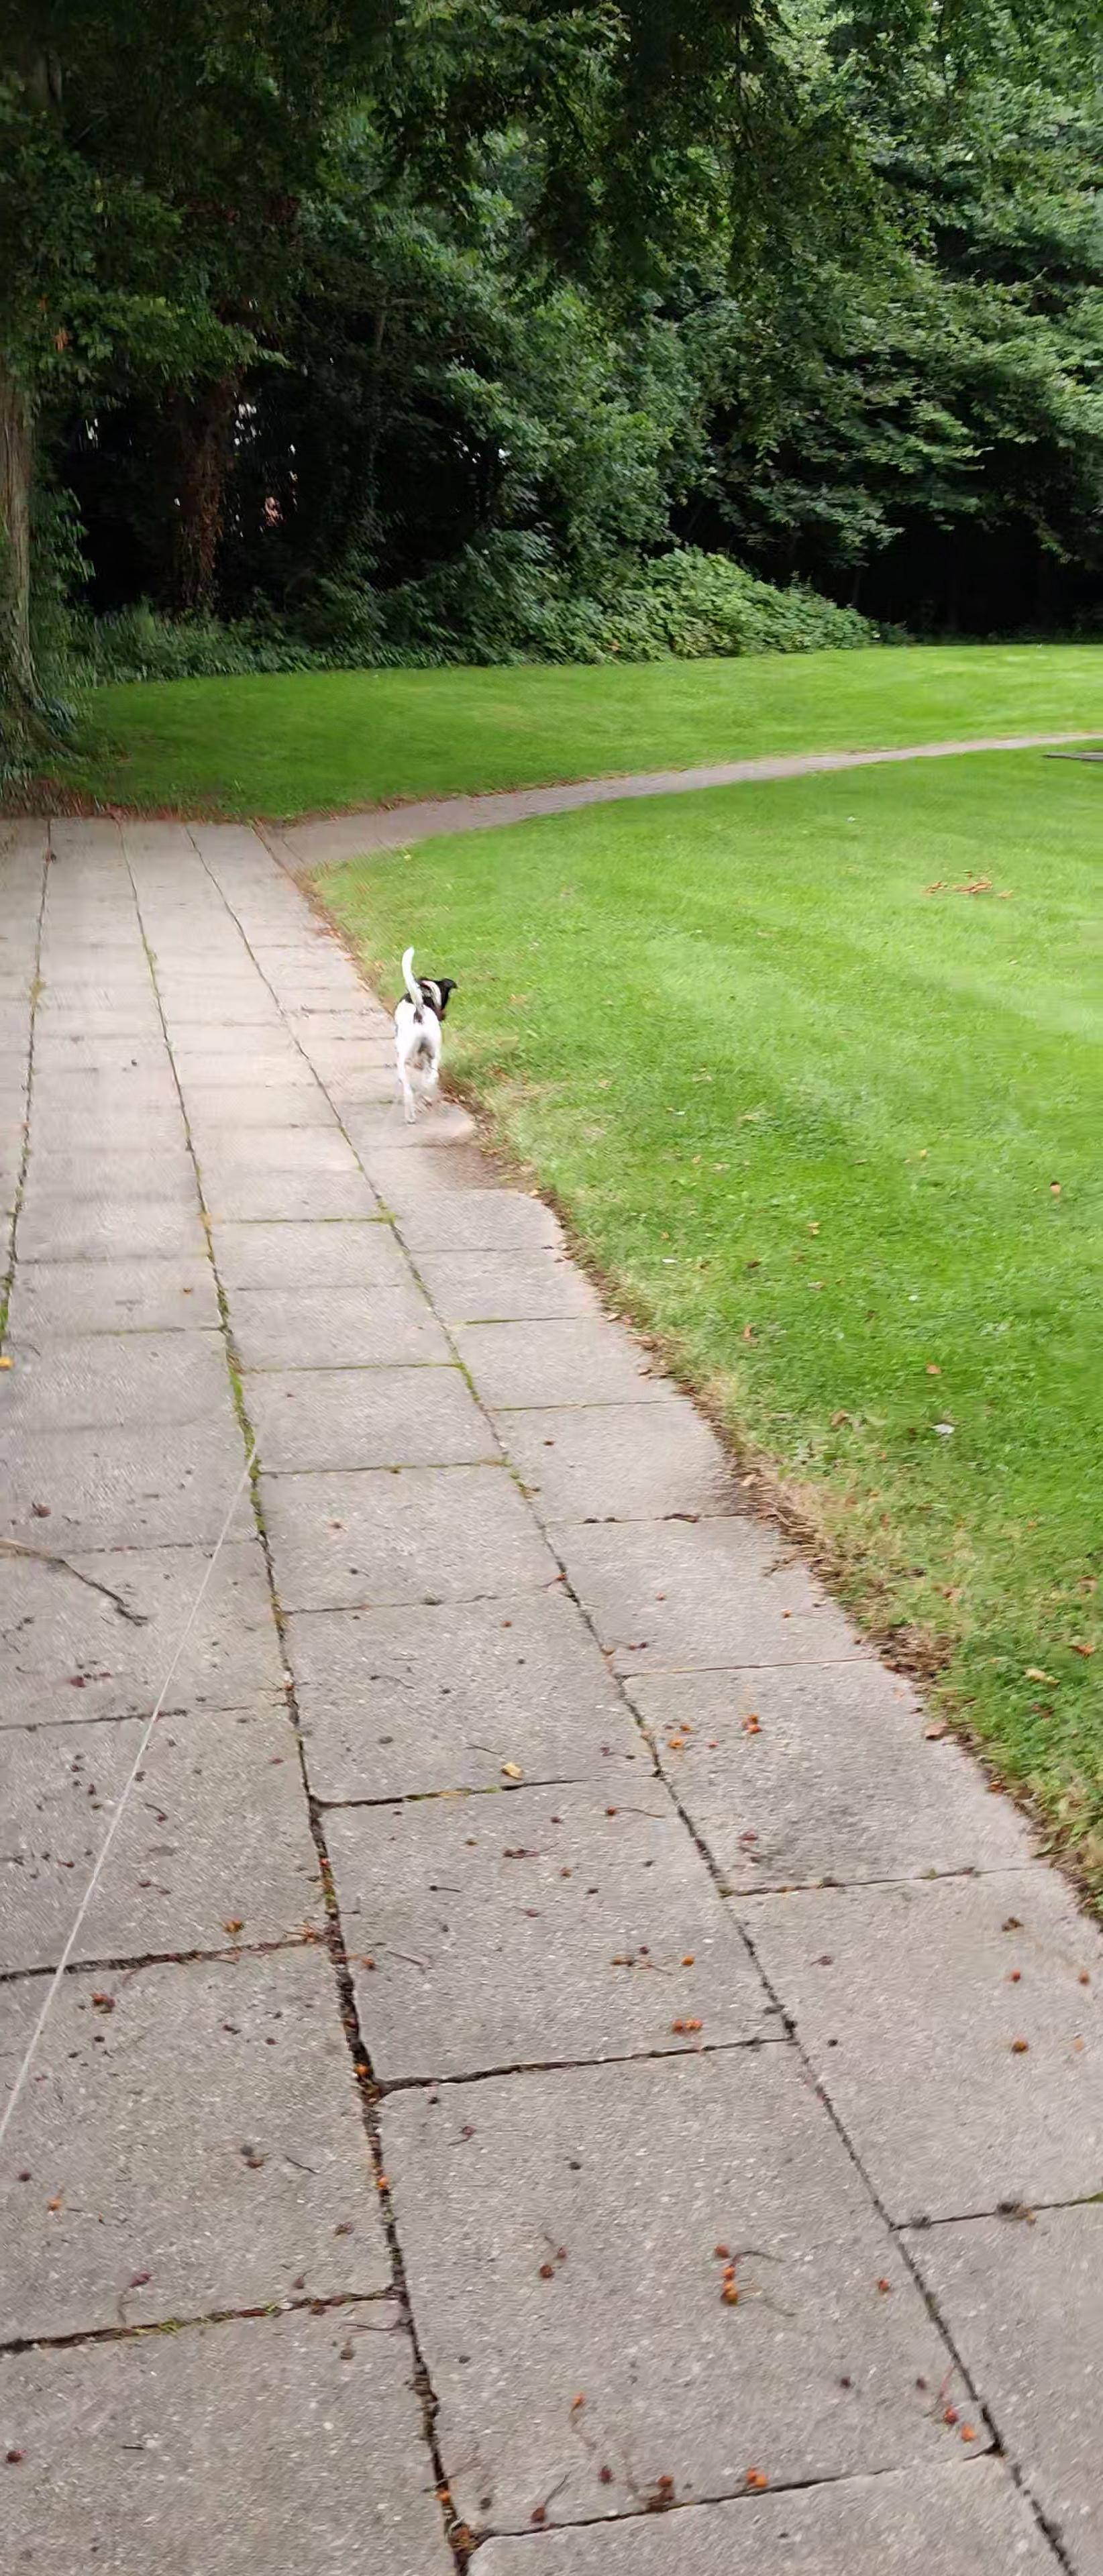Dog: (383, 938, 465, 1129)
